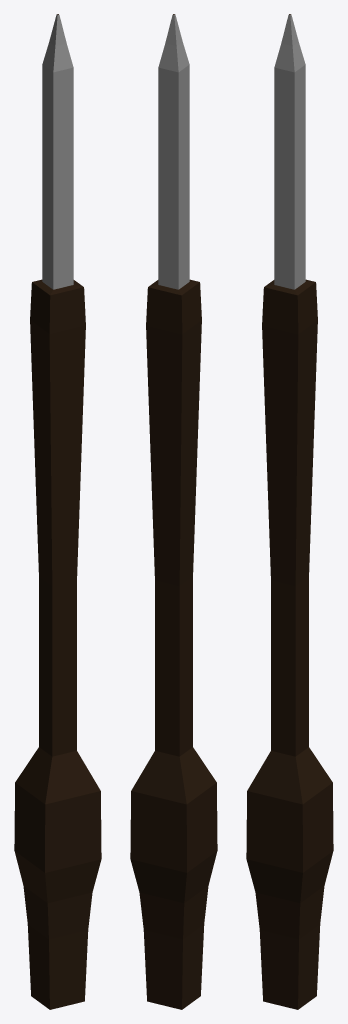
The model's file is swords.fbx.
The picture shows the model from 3 angles, left to right: view 1: azimuth 30°, elevation 25°; view 2: azimuth 150°, elevation 25°; view 3: azimuth 330°, elevation 25°; orthographic projection.
Visible parts, largest first — view 1: Cube; view 2: Cube; view 3: Cube.
Part boxes in pixels (box(x1,y1,x2,y2)): Cube: box(14, 14, 101, 1009); Cube: box(130, 14, 217, 1009); Cube: box(246, 14, 333, 1009).
Bounding box in the file's own units: 3.28 × 54.64 × 3.08.
